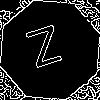Z: (25, 25, 68, 77)
